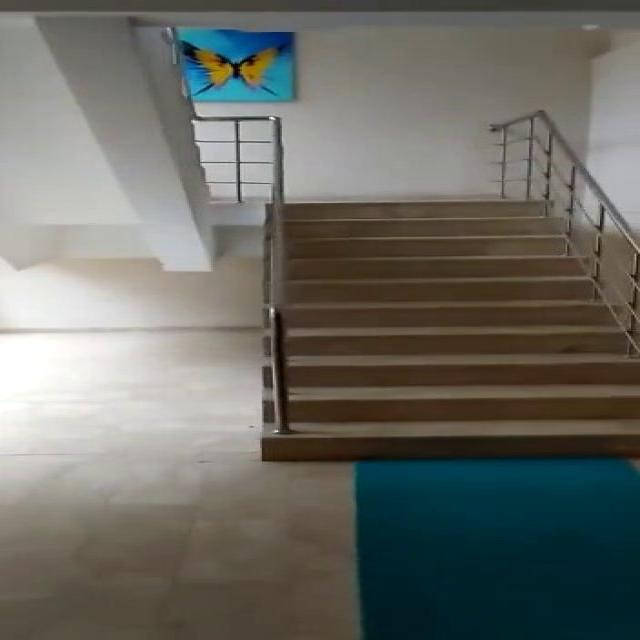stair: (259, 204, 640, 462)
